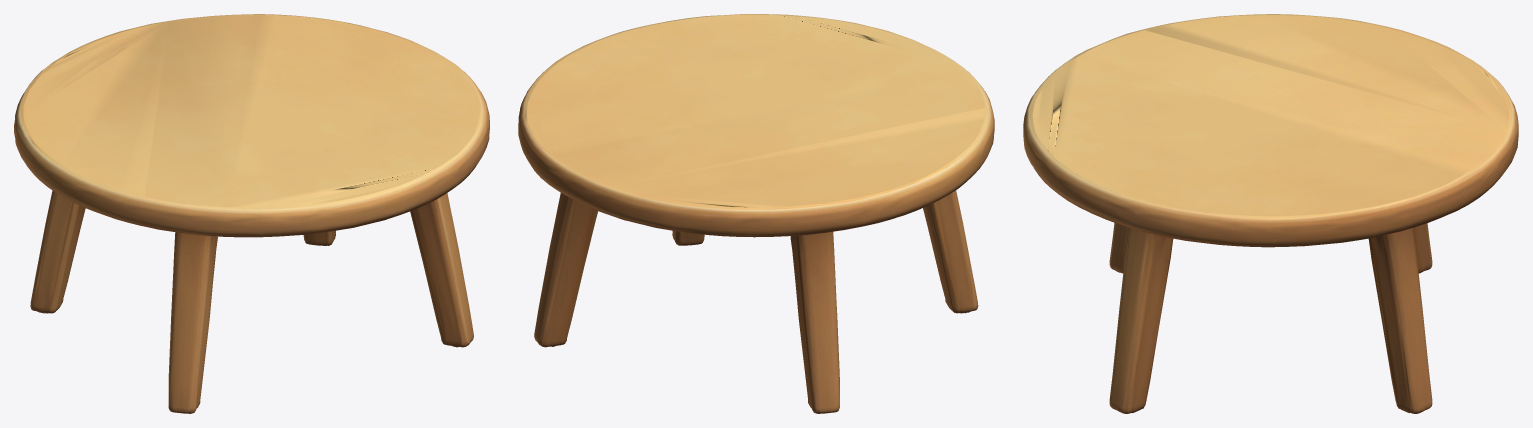
Rendered from oak-dining-table-stylized-v2.glb.
3 renders of one model, left to right at view 1: azimuth 30°, elevation 25°; view 2: azimuth 150°, elevation 25°; view 3: azimuth 270°, elevation 25°, orthographic. The views are drawn at different scales.
Parts seen in each view (by area): view 1: oak-dining-table-stylized-v2; view 2: oak-dining-table-stylized-v2; view 3: oak-dining-table-stylized-v2.
Part boxes in pixels (left/top/right/bottom): oak-dining-table-stylized-v2: left=14, top=14, right=489, bottom=413; oak-dining-table-stylized-v2: left=518, top=14, right=994, bottom=413; oak-dining-table-stylized-v2: left=1023, top=14, right=1518, bottom=413.
Bounding box in the file's own units: 1.44 × 0.72 × 1.44.
Materials: 1 (1 with a texture image).
